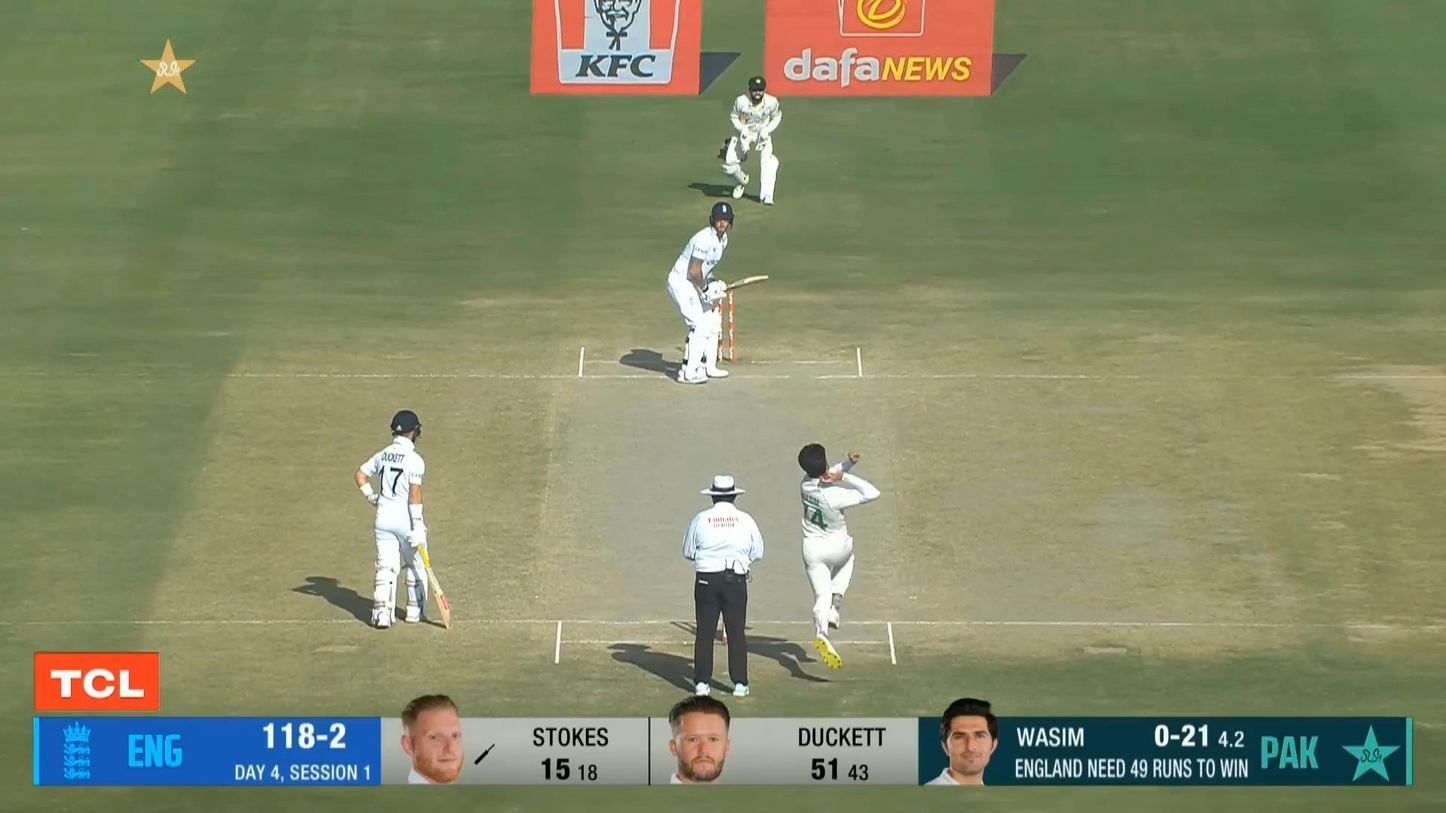BM 1: (666, 202, 769, 384), (352, 408, 436, 629)
BO: (797, 443, 882, 670)
